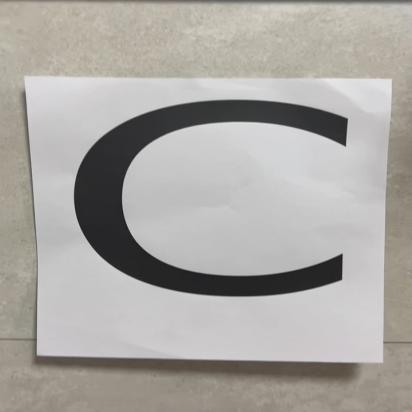seat: (16, 62, 392, 364)
